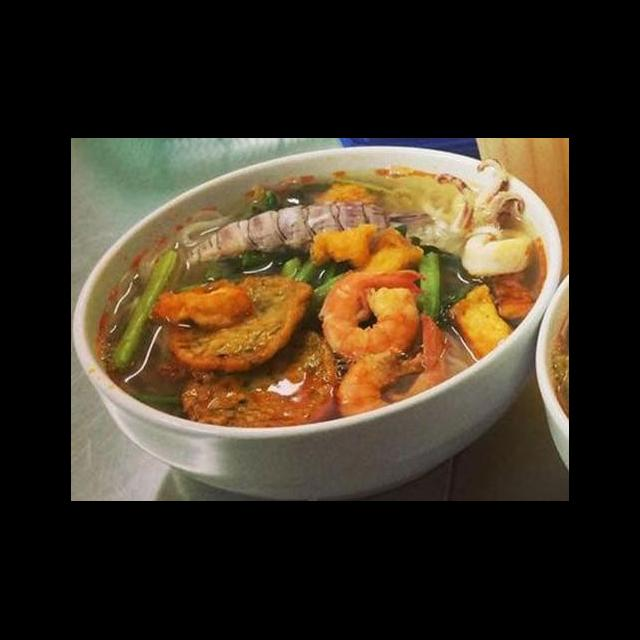dau hu: (441, 278, 519, 364)
muc: (431, 156, 530, 242), (456, 230, 536, 280)
tom: (334, 308, 450, 428), (315, 264, 429, 372)
tom tit: (183, 198, 396, 276)
